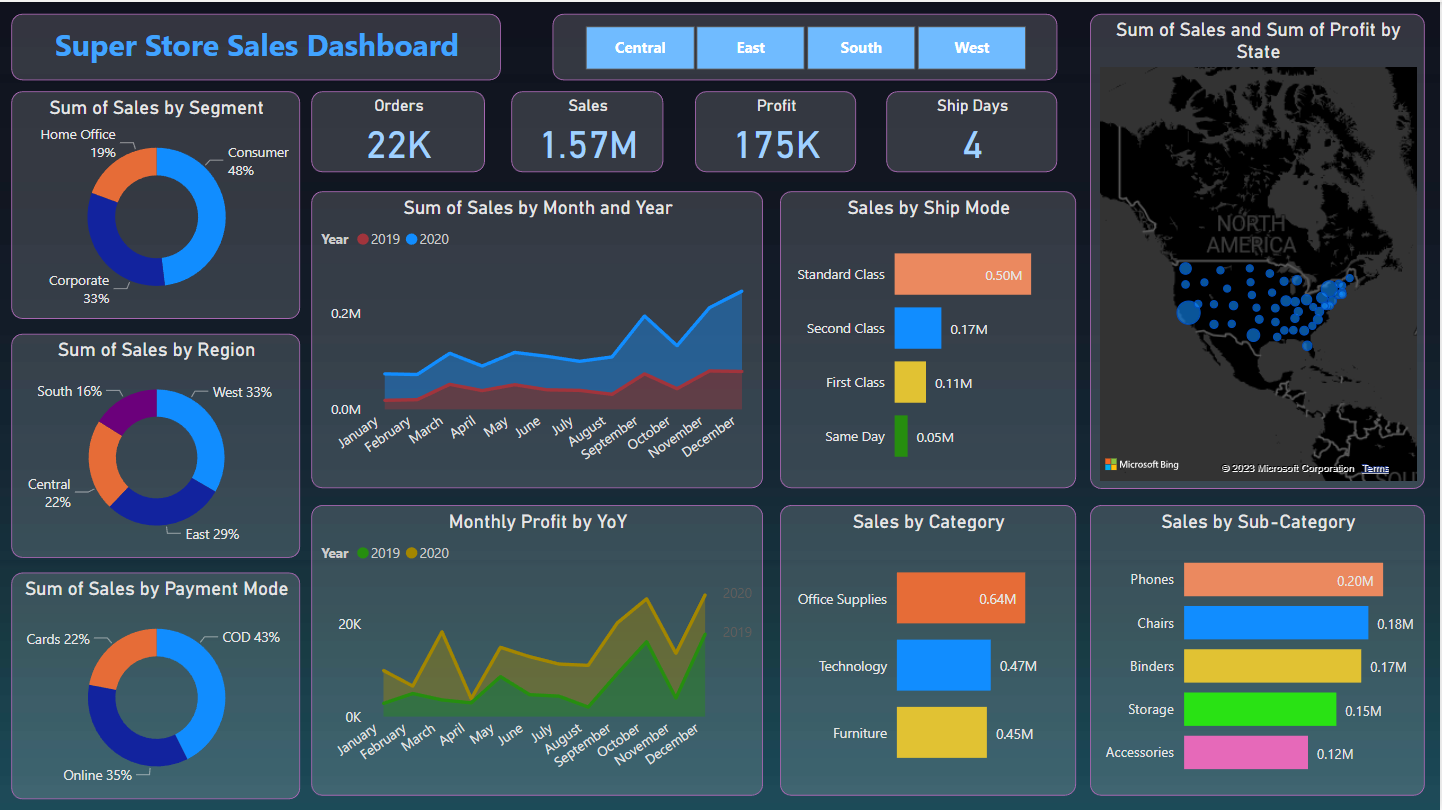

The page's visual inventory and layout, read from the dashboard file:
{"tool":"powerbi","page":{"name":"Dashboard","canvas":[1280,720],"ordinal":0},"visuals":[{"type":"clusteredBarChart","title":"Sales by Category","fields":{"Category":["SuperStore_Sales_Dataset.Category"],"Y":["Sum(SuperStore_Sales_Dataset.Sales)"]},"box":[693.5,448.6,262.9,258.1],"z":0},{"type":"clusteredBarChart","title":"Sales by Sub-Category","fields":{"Y":["Sum(SuperStore_Sales_Dataset.Sales)"],"Category":["SuperStore_Sales_Dataset.Sub-Category"]},"box":[968.4,448.6,297.9,258.1],"z":1000},{"type":"clusteredBarChart","title":"Sales by Ship Mode","fields":{"Y":["Sum(SuperStore_Sales_Dataset.Sales)"],"Category":["SuperStore_Sales_Dataset.Ship Mode"]},"box":[693.5,170.1,262.9,264.1],"z":2000},{"type":"stackedAreaChart","title":"Monthly Profit by YoY","fields":{"Category":["SuperStore_Sales_Dataset.Order Date.Variation.Date Hierarchy.Month","SuperStore_Sales_Dataset.Order Date.Variation.Date Hierarchy.Day"],"Series":["SuperStore_Sales_Dataset.Order Date.Variation.Date Hierarchy.Year"],"Y":["Sum(SuperStore_Sales_Dataset.Profit)"]},"box":[276.2,448.6,401.6,258.1],"z":3000},{"type":"map","fields":{"Size":["Sum(SuperStore_Sales_Dataset.Sales)"],"Category":["SuperStore_Sales_Dataset.State"]},"box":[968.4,12.1,297.9,422.1],"z":4000},{"type":"donutChart","fields":{"Category":["SuperStore_Sales_Dataset.Segment"],"Y":["Sum(SuperStore_Sales_Dataset.Sales)"]},"box":[9.6,80.8,256.9,202.6],"z":5000},{"type":"donutChart","fields":{"Category":["SuperStore_Sales_Dataset.Region"],"Y":["Sum(SuperStore_Sales_Dataset.Sales)"]},"box":[9.6,296.7,256.9,199],"z":6000},{"type":"donutChart","fields":{"Y":["Sum(SuperStore_Sales_Dataset.Sales)"],"Category":["SuperStore_Sales_Dataset.Payment Mode"]},"box":[9.6,508.9,256.9,201.4],"z":7000},{"type":"slicer","fields":{"Values":["SuperStore_Sales_Dataset.Region"]},"box":[490.9,12.1,448.6,59.1],"z":8000},{"type":"textbox","box":[9.6,12.1,435.4,59.1],"z":9000},{"type":"card","title":"Sales","fields":{"Values":["Sum(SuperStore_Sales_Dataset.Sales)"]},"box":[454.7,80.8,135.1,72.4],"z":10000},{"type":"card","title":"Orders","fields":{"Values":["Sum(SuperStore_Sales_Dataset.Quantity)"]},"box":[276.2,80.8,154.4,72.4],"z":11000},{"type":"card","title":"Profit","fields":{"Values":["Sum(SuperStore_Sales_Dataset.Profit)"]},"box":[617.5,80.8,143.5,72.4],"z":12000},{"type":"card","title":"Ship Days","fields":{"Values":["Avg(SuperStore_Sales_Dataset.AvgDelivery)"]},"box":[787.5,80.8,152,72.4],"z":13000},{"type":"stackedAreaChart","fields":{"Category":["SuperStore_Sales_Dataset.Order Date.Variation.Date Hierarchy.Month","SuperStore_Sales_Dataset.Order Date.Variation.Date Hierarchy.Day"],"Y":["Sum(SuperStore_Sales_Dataset.Sales)"],"Series":["SuperStore_Sales_Dataset.Order Date.Variation.Date Hierarchy.Year"]},"box":[276.2,170.1,401.6,264.1],"z":14000}]}

Visuals, with their boxes in screenshot pixels (x1, y1, x2, y2), scaled from the page's 1280x720 canvas onto the 1442x810 screenshot:
"Sales by Category" clusteredBarChart: {"left": 781, "top": 505, "right": 1077, "bottom": 795}
"Sales by Sub-Category" clusteredBarChart: {"left": 1091, "top": 505, "right": 1427, "bottom": 795}
"Sales by Ship Mode" clusteredBarChart: {"left": 781, "top": 191, "right": 1077, "bottom": 488}
"Monthly Profit by YoY" stackedAreaChart: {"left": 311, "top": 505, "right": 764, "bottom": 795}
map - Sum(SuperStore_Sales_Dataset.Sales) x SuperStore_Sales_Dataset.State: {"left": 1091, "top": 14, "right": 1427, "bottom": 488}
donutChart - SuperStore_Sales_Dataset.Segment x Sum(SuperStore_Sales_Dataset.Sales): {"left": 11, "top": 91, "right": 300, "bottom": 319}
donutChart - SuperStore_Sales_Dataset.Region x Sum(SuperStore_Sales_Dataset.Sales): {"left": 11, "top": 334, "right": 300, "bottom": 558}
donutChart - Sum(SuperStore_Sales_Dataset.Sales) x SuperStore_Sales_Dataset.Payment Mode: {"left": 11, "top": 573, "right": 300, "bottom": 799}
slicer - SuperStore_Sales_Dataset.Region: {"left": 553, "top": 14, "right": 1058, "bottom": 80}
textbox: {"left": 11, "top": 14, "right": 501, "bottom": 80}
"Sales" card: {"left": 512, "top": 91, "right": 664, "bottom": 172}
"Orders" card: {"left": 311, "top": 91, "right": 485, "bottom": 172}
"Profit" card: {"left": 696, "top": 91, "right": 857, "bottom": 172}
"Ship Days" card: {"left": 887, "top": 91, "right": 1058, "bottom": 172}
stackedAreaChart - SuperStore_Sales_Dataset.Order Date.Variation.Date Hierarchy.Month x SuperStore_Sales_Dataset.Order Date.Variation.Date Hierarchy.Day: {"left": 311, "top": 191, "right": 764, "bottom": 488}
